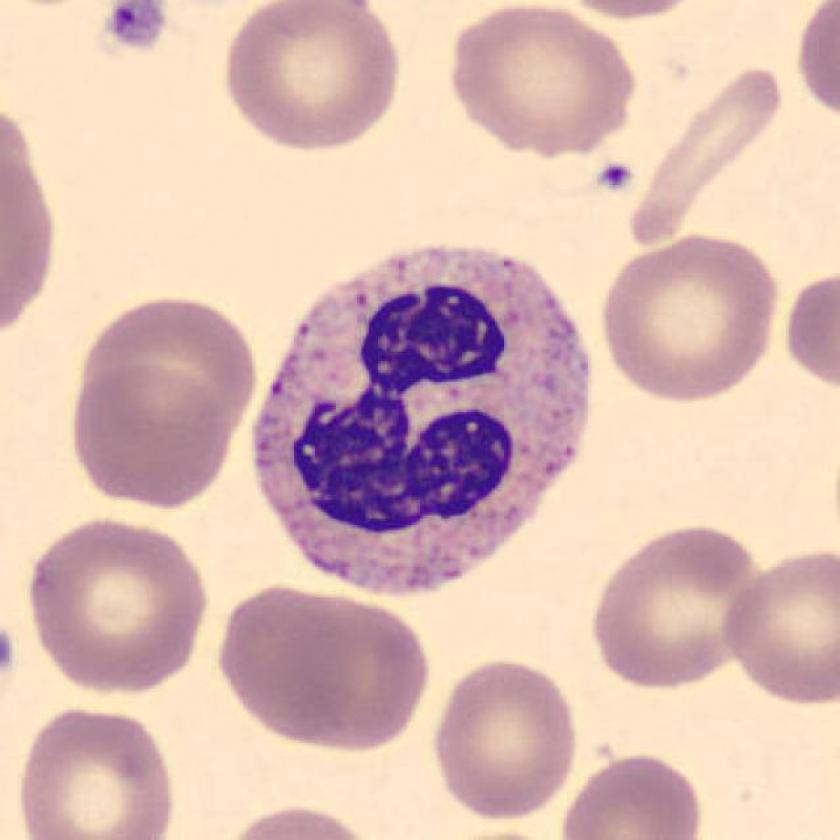neutrophil: (255, 246, 591, 593)
